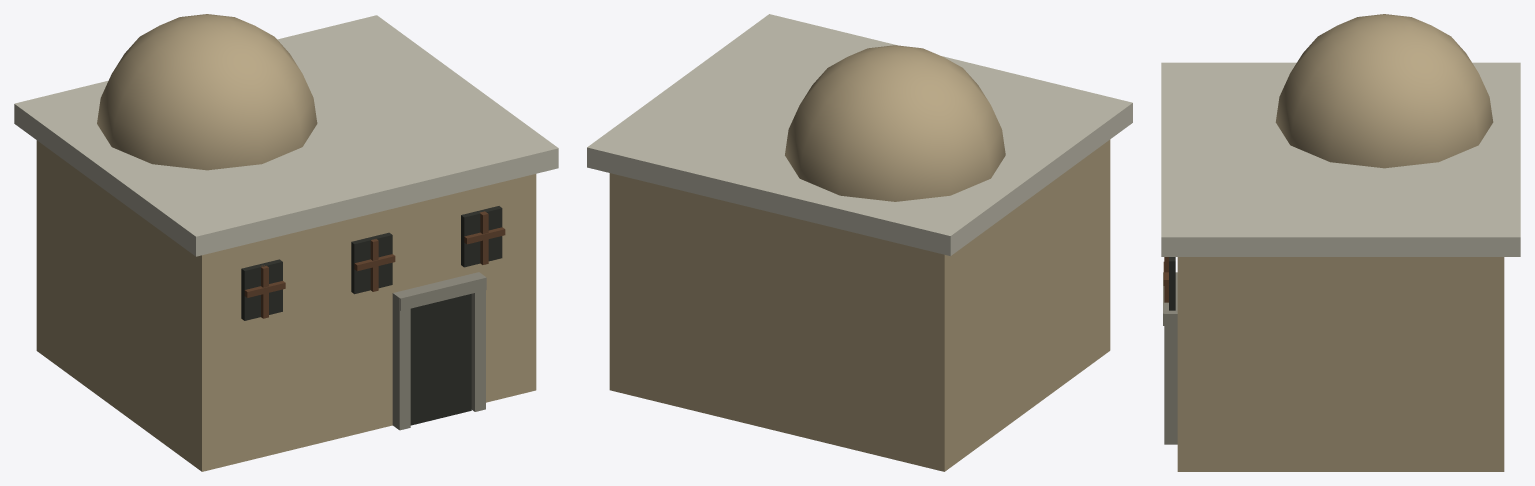
File: custom-home-islamic.glb
3 views of the same model, side by side, from view 1: azimuth 30°, elevation 25°; view 2: azimuth 150°, elevation 25°; view 3: azimuth 270°, elevation 25° (orthographic).
Visible parts, largest first — view 1: custom-home-islamic; view 2: custom-home-islamic; view 3: custom-home-islamic.
Part boxes in pixels (box(x1,y1,x2,y2)): custom-home-islamic: box(14, 14, 558, 471); custom-home-islamic: box(587, 14, 1132, 471); custom-home-islamic: box(1161, 14, 1520, 471).
Bounding box in the file's own units: 1 × 0.9079 × 0.8684.
